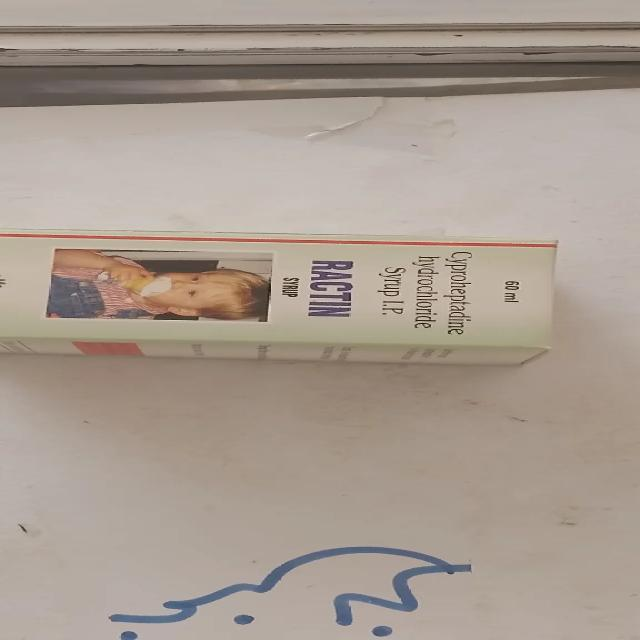drug-name: (308, 251, 355, 323)
